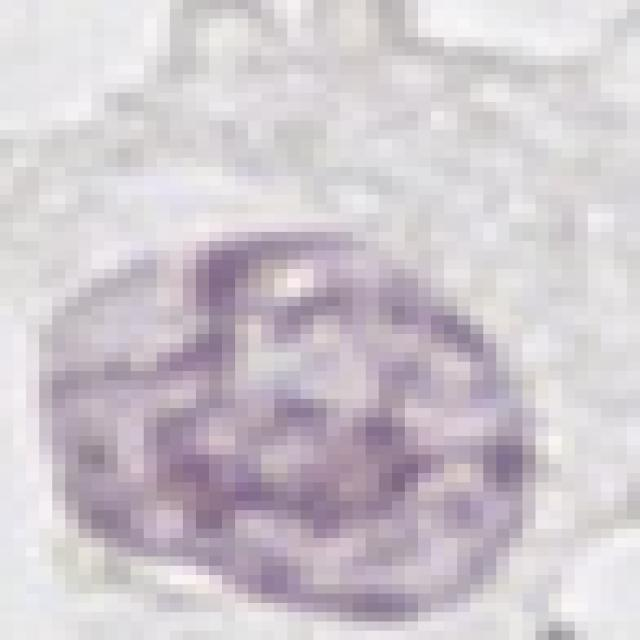cytoplasm: (5, 0, 627, 631)
nucleus: (30, 219, 538, 639)
